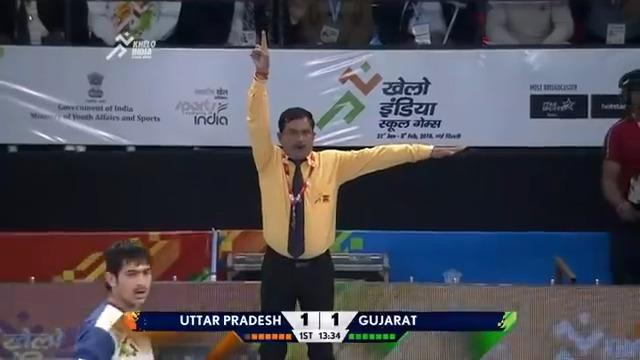Player: (72, 239, 157, 359)
referee: (243, 29, 468, 358)
